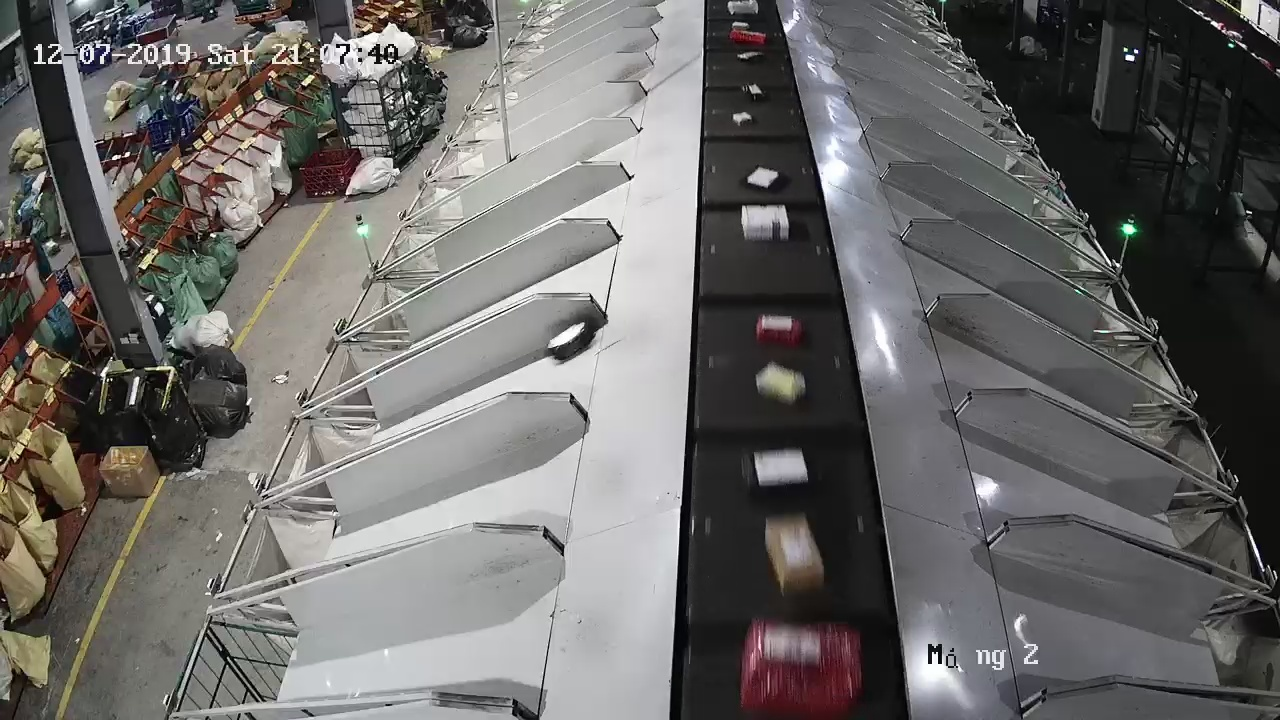parcel: (546, 319, 593, 361)
